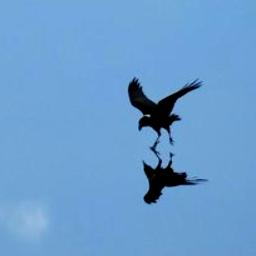Crow: (127, 76, 206, 152)
